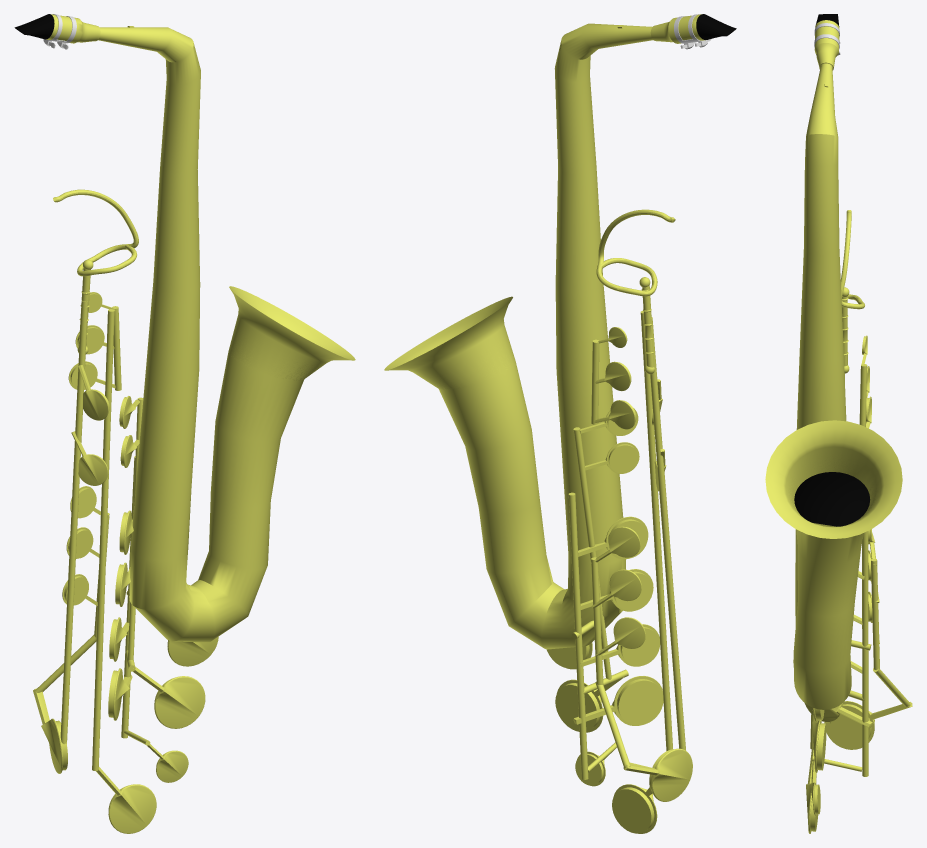
File: GuitarLowPoly.fbx
The picture shows the model from 3 angles, left to right: view 1: azimuth 30°, elevation 25°; view 2: azimuth 150°, elevation 25°; view 3: azimuth 270°, elevation 25°; orthographic projection. The views are drawn at different scales.
Visible parts, largest first — view 1: Cylinder; view 2: Cylinder; view 3: Cylinder.
Part boxes in pixels (box(x1,y1,x2,y2)): Cylinder: box(14, 14, 355, 833); Cylinder: box(384, 14, 736, 833); Cylinder: box(765, 14, 912, 833).
Bounding box in the file's own units: 254 × 615 × 105.
